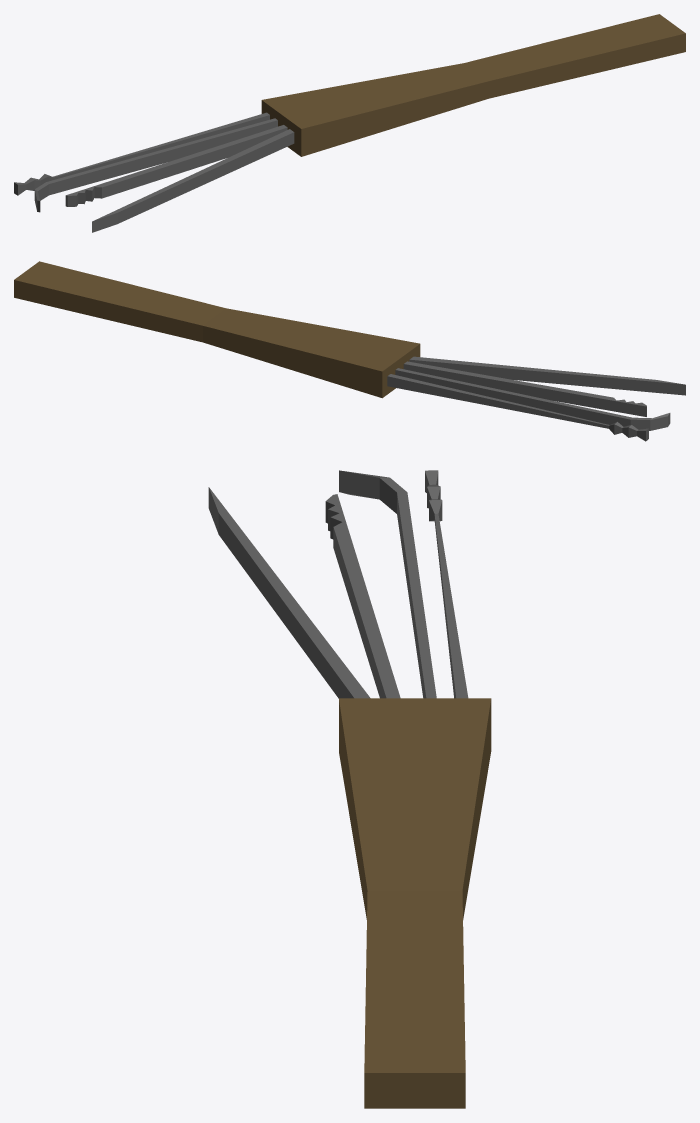
Rendered from LockPick.fbx.
3 views of the same model, one above another, from view 1: azimuth 30°, elevation 25°; view 2: azimuth 150°, elevation 25°; view 3: azimuth 270°, elevation 25° (orthographic). The views are drawn at different scales.
Parts seen in each view (by area): view 1: Cube; view 2: Cube; view 3: Cube.
Part boxes in pixels (bbox=[...]): Cube: bbox=[14, 14, 685, 232]; Cube: bbox=[14, 261, 685, 441]; Cube: bbox=[208, 470, 491, 1108].
Bounding box in the file's own units: 300 × 12.31 × 58.76.
